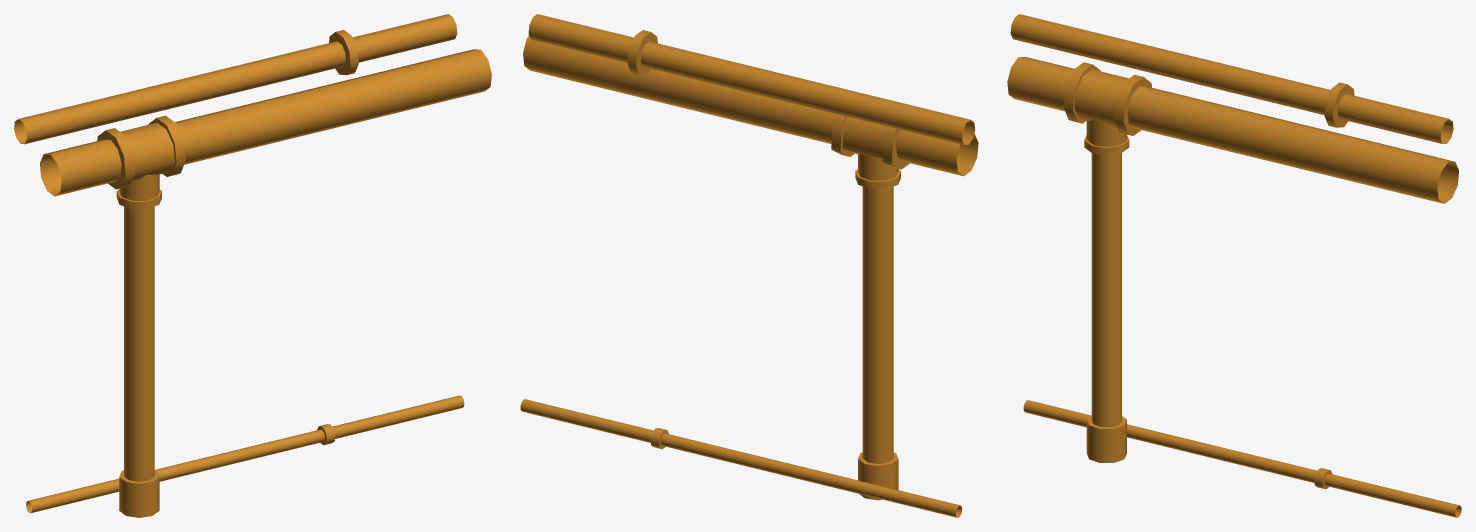
The model's file is pipes 1.FBX.
The picture shows the model from 3 angles, left to right: view 1: azimuth 30°, elevation 25°; view 2: azimuth 150°, elevation 25°; view 3: azimuth 330°, elevation 25°; orthographic projection.
Visible parts, largest first — view 1: pipes; view 2: pipes; view 3: pipes.
Boxes of the visible parts, x1=… form: pipes: x1=14, y1=14, x2=491, y2=517; pipes: x1=520, y1=14, x2=978, y2=517; pipes: x1=1007, y1=14, x2=1461, y2=517.
Size of the model in its own units: 102 by 89.95 by 16.08.
